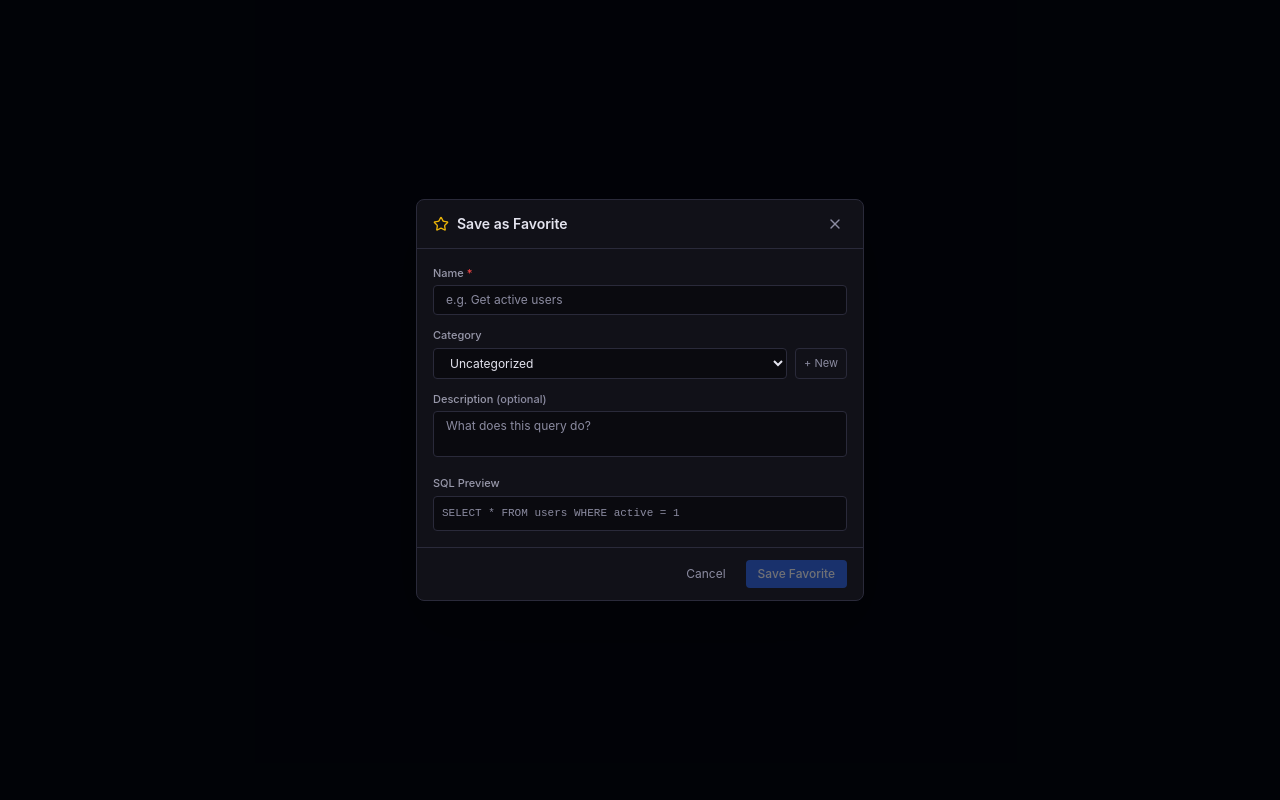
SaveFavoriteDialog › duplicate names › disables Save until the name changes
Type "Active users" into the field with placeholder "e.g. Get active users".
click(640, 300); type("Active users")  # box [433, 285, 847, 315]
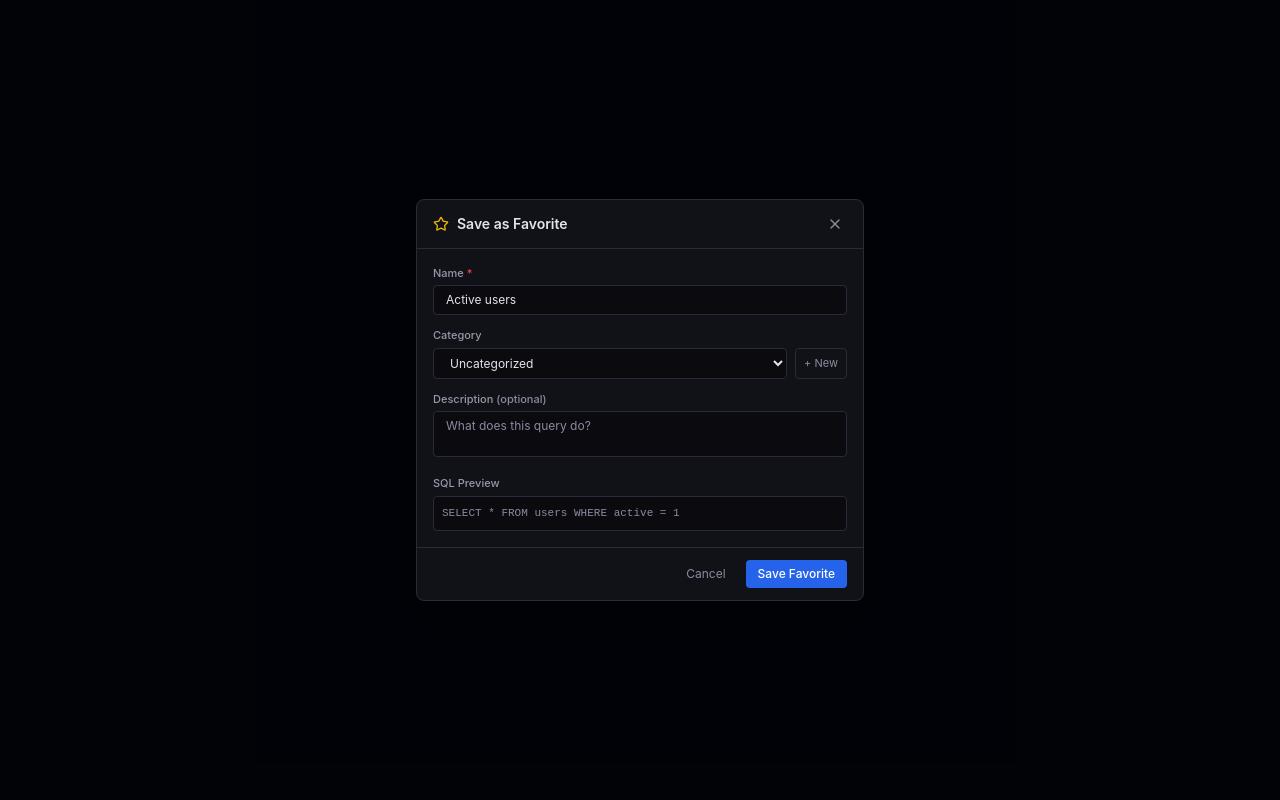
Click the button "Save Favorite".
click(796, 574)  # box [746, 560, 847, 588]
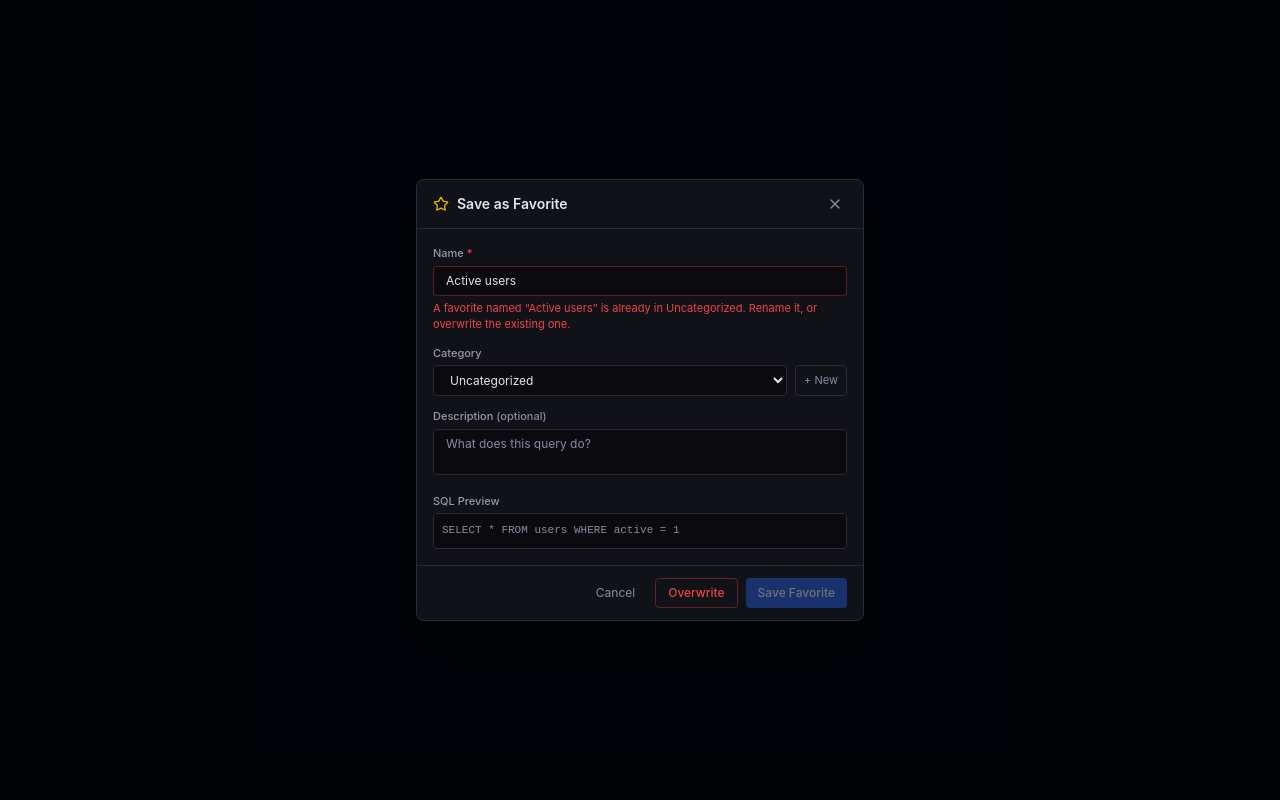
Now the button "Save Favorite" is disabled, box [746, 578, 847, 608]
Replace the text in the field with placeholder "e.g. Get active users" with "Active users 2" at [640, 281], box [433, 266, 847, 296]
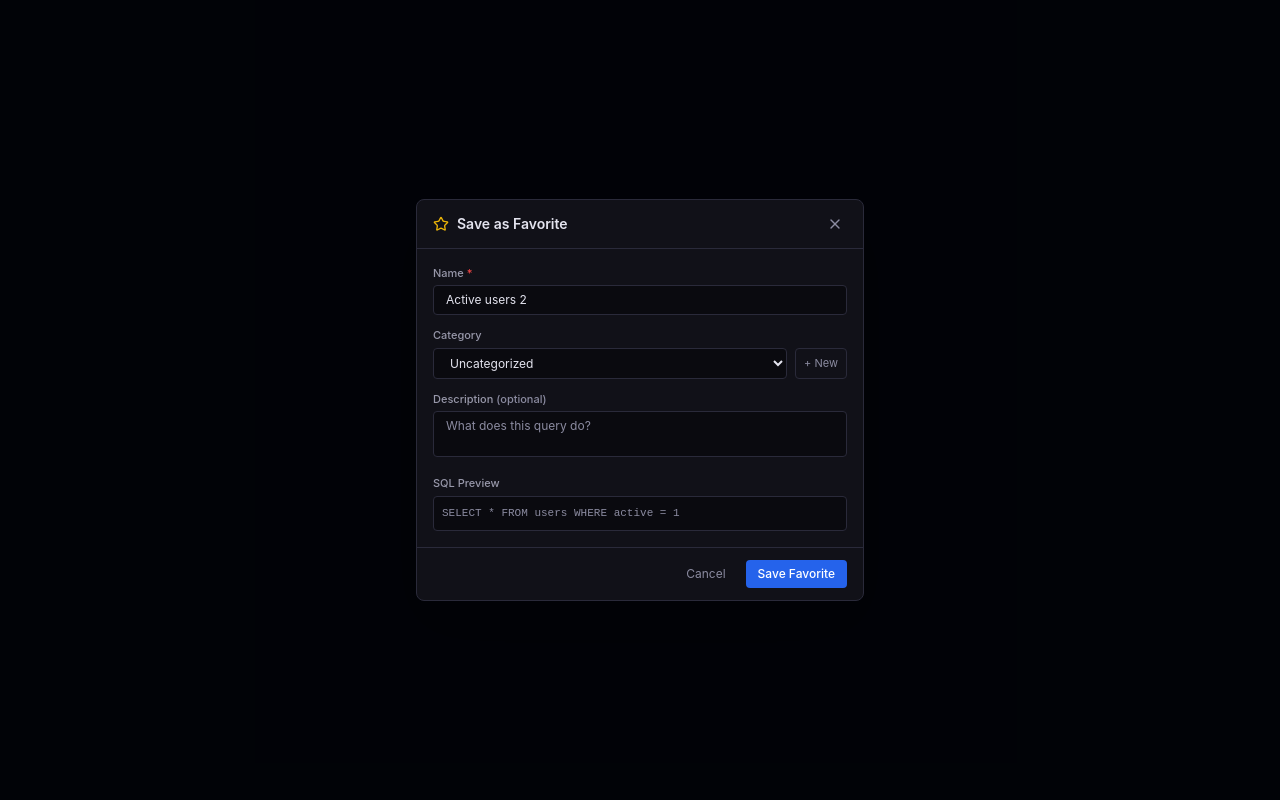
Now the button "Save Favorite" is enabled, box [746, 560, 847, 588]
Now the message is gone
